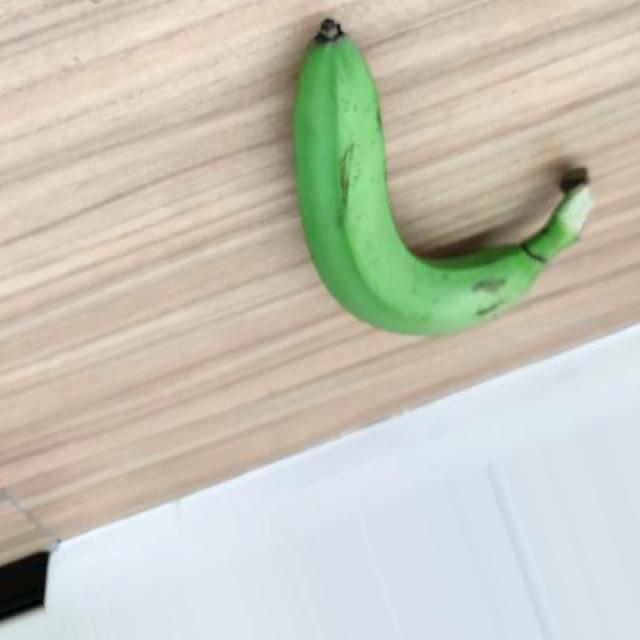Unripe: (290, 16, 597, 337)
